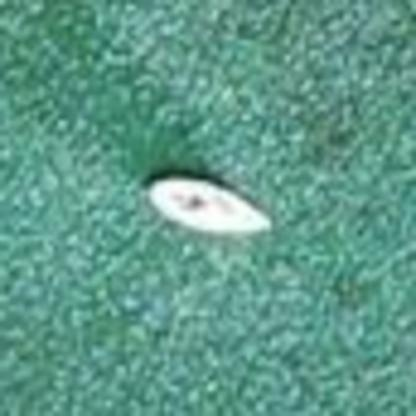ship: (139, 168, 278, 241)
